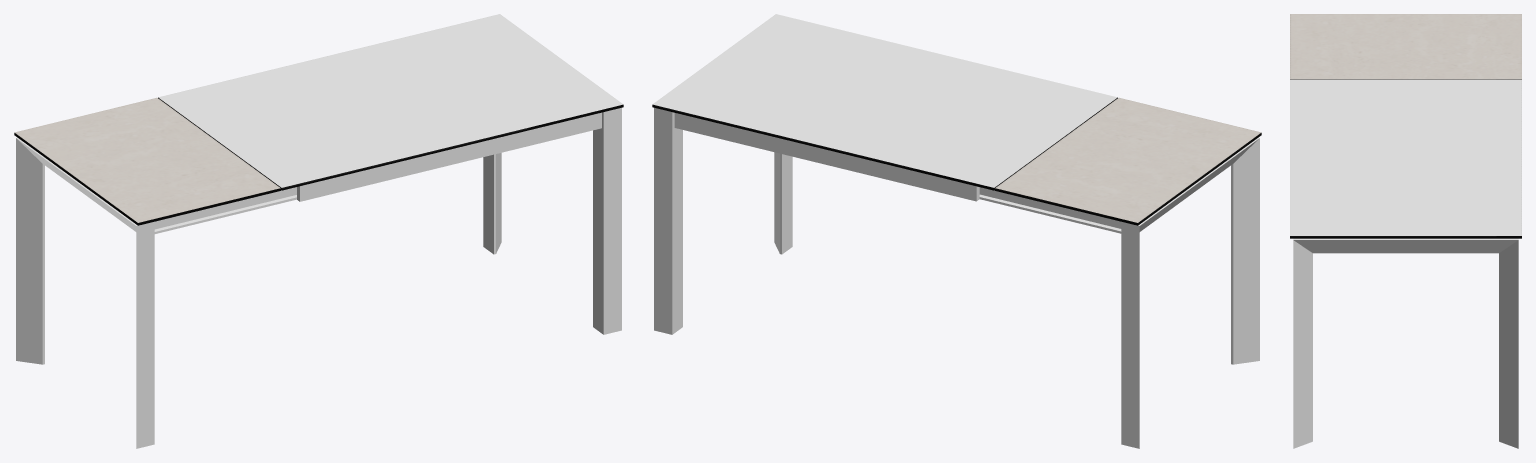
Rendered from table_44_04.001.fbx.
The picture shows the model from 3 angles, left to right: view 1: azimuth 30°, elevation 25°; view 2: azimuth 150°, elevation 25°; view 3: azimuth 270°, elevation 25°; orthographic projection. The views are drawn at different scales.
Visible parts, largest first — view 1: table_44_04.001; view 2: table_44_04.001; view 3: table_44_04.001.
Part boxes in pixels (bbox=[...]): table_44_04.001: bbox=[14, 14, 623, 448]; table_44_04.001: bbox=[652, 14, 1261, 448]; table_44_04.001: bbox=[1290, 14, 1521, 448].
Size of the model in its own units: 170 by 75.99 by 75.
1 material, 1 textured.
